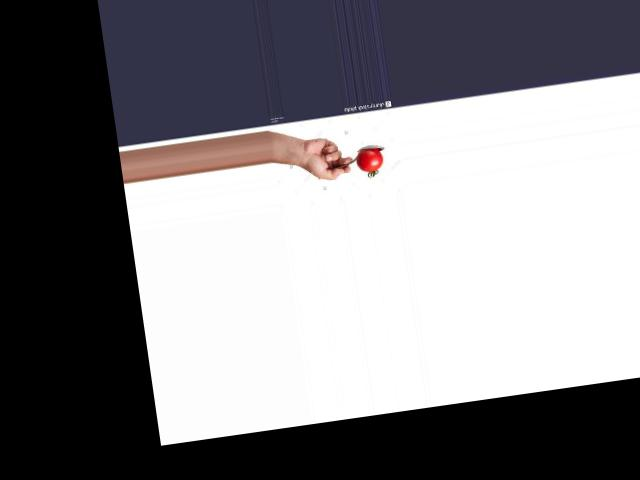tomato: (354, 147, 384, 173)
